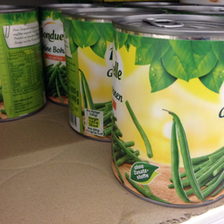beans: (111, 16, 224, 199), (62, 5, 129, 146)
